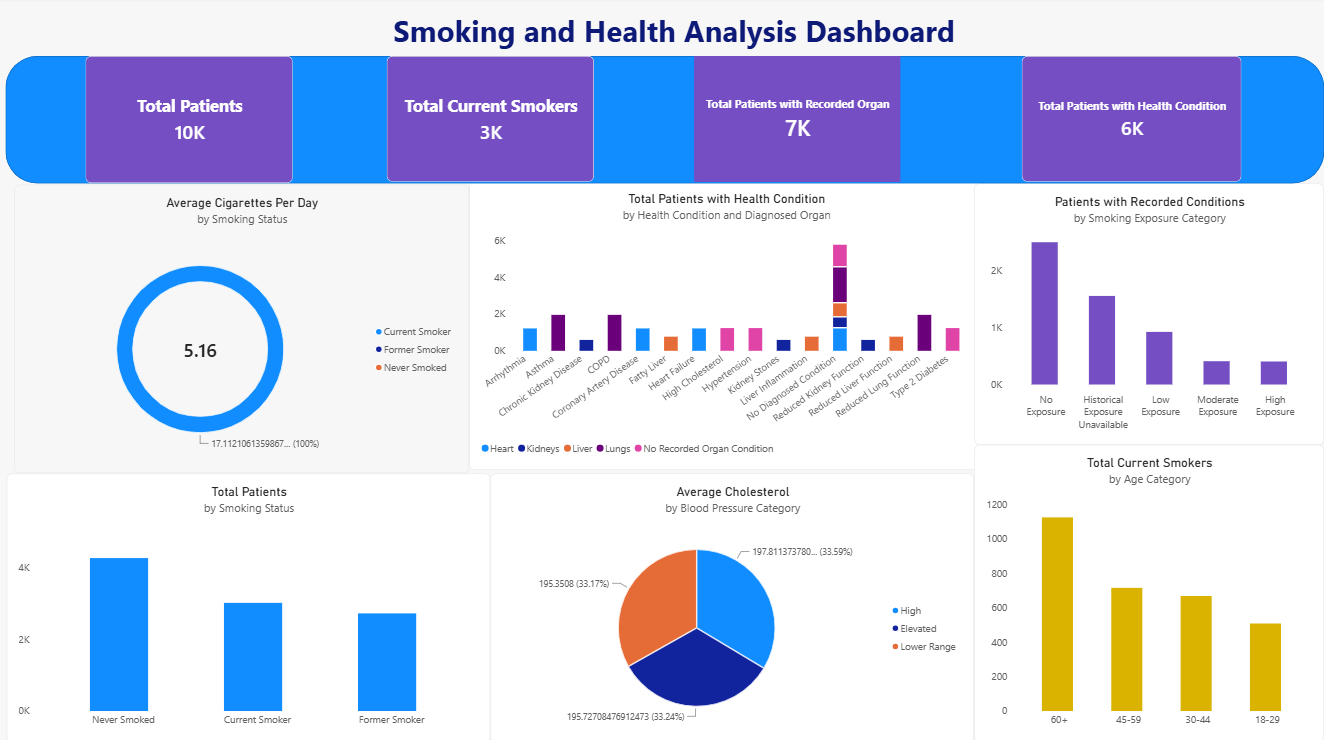

The page's visual inventory and layout, read from the dashboard file:
{"tool":"powerbi","page":{"name":"Page 1","canvas":[1920,1080],"ordinal":0},"visuals":[{"type":"textbox","box":[10,580,280,280],"z":0},{"type":"donutChart","fields":{"Category":["Smoking_Health_Analysis.Smoking_Status"],"Y":["Smoking_Health_Analysis.Average Cigarettes Per Day"]},"box":[23.5,273.3,658.7,417.8],"z":1000},{"type":"columnChart","fields":{"Category":["Smoking_Health_Analysis.Health_Condition"],"Series":["Smoking_Health_Analysis.Diagnosed_Organ"],"Y":["Smoking_Health_Analysis.Total Patients with Health Condition"]},"box":[682.2,271.4,743.8,418],"z":2000},{"type":"columnChart","fields":{"Category":["Smoking_Health_Analysis.Smoking_Status"],"Y":["Smoking_Health_Analysis.Total Patients"]},"box":[12.7,691.3,700.3,389.1],"z":3000},{"type":"pieChart","fields":{"Category":["Smoking_Health_Analysis.Blood Pressure Category"],"Y":["Smoking_Health_Analysis.Average Cholesterol"]},"box":[713,691.3,700.3,389.1],"z":4000},{"type":"clusteredColumnChart","fields":{"Category":["Smoking_Health_Analysis.Age Category"],"Y":["Smoking_Health_Analysis.Total Current Smokers"]},"box":[1413.3,649.7,506.7,430.7],"z":5000},{"type":"columnChart","fields":{"Category":["Smoking_Health_Analysis.Smoking Exposure Category"],"Y":["Smoking_Health_Analysis.Patients with Recorded Conditions"]},"box":[1413.3,271.4,506.7,378.2],"z":6000},{"type":"shape","box":[10.9,86.9,1909.2,184.6],"z":7000},{"type":"cardVisual","fields":{"Data":["Smoking_Health_Analysis.Total Patients with Recorded Organ"]},"box":[1008,86.9,298.6,182.8],"z":7010},{"type":"cardVisual","fields":{"Data":["Smoking_Health_Analysis.Total Patients with Health Condition"]},"box":[1482.1,86.9,318.5,182.8],"z":7011},{"type":"cardVisual","fields":{"Data":["Smoking_Health_Analysis.Total Patients"]},"box":[126.7,86.9,300.4,184.6],"z":7012},{"type":"cardVisual","fields":{"Data":["Smoking_Health_Analysis.Total Current Smokers"]},"box":[562.8,86.9,300.4,182.8],"z":7013},{"type":"textbox","box":[99.5,19.9,1759,94.1],"z":7015}]}

Visuals, with their boxes in screenshot pixels (x1, y1, x2, y2), scaled from the page's 1920x1080 canvas onto the 1324x740 screenshot:
textbox: rect(7, 397, 200, 589)
donutChart - Smoking_Health_Analysis.Smoking_Status x Smoking_Health_Analysis.Average Cigarettes Per Day: rect(16, 187, 470, 474)
columnChart - Smoking_Health_Analysis.Health_Condition x Smoking_Health_Analysis.Diagnosed_Organ: rect(470, 186, 983, 472)
columnChart - Smoking_Health_Analysis.Smoking_Status x Smoking_Health_Analysis.Total Patients: rect(9, 474, 492, 739)
pieChart - Smoking_Health_Analysis.Blood Pressure Category x Smoking_Health_Analysis.Average Cholesterol: rect(492, 474, 975, 739)
clusteredColumnChart - Smoking_Health_Analysis.Age Category x Smoking_Health_Analysis.Total Current Smokers: rect(975, 445, 1323, 739)
columnChart - Smoking_Health_Analysis.Smoking Exposure Category x Smoking_Health_Analysis.Patients with Recorded Conditions: rect(975, 186, 1323, 445)
shape: rect(8, 60, 1323, 186)
cardVisual - Smoking_Health_Analysis.Total Patients with Recorded Organ: rect(695, 60, 901, 185)
cardVisual - Smoking_Health_Analysis.Total Patients with Health Condition: rect(1022, 60, 1242, 185)
cardVisual - Smoking_Health_Analysis.Total Patients: rect(87, 60, 295, 186)
cardVisual - Smoking_Health_Analysis.Total Current Smokers: rect(388, 60, 595, 185)
textbox: rect(69, 14, 1282, 78)
